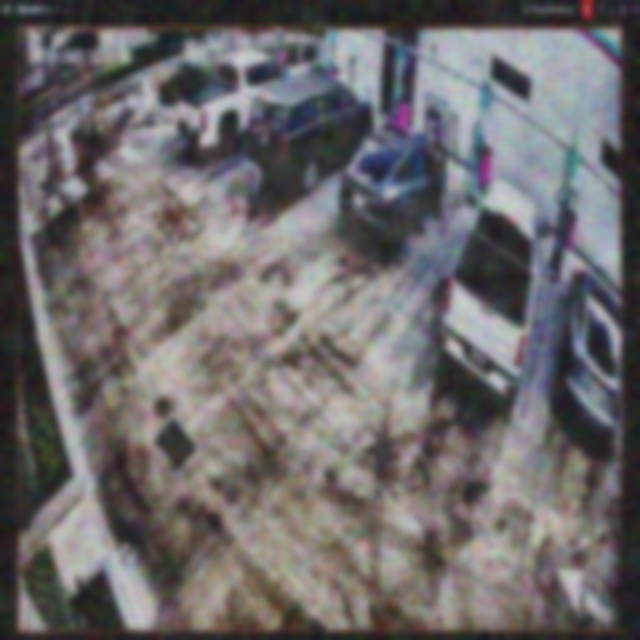Car: (440, 179, 545, 398), (246, 73, 375, 182), (339, 122, 444, 250), (179, 52, 303, 153)
